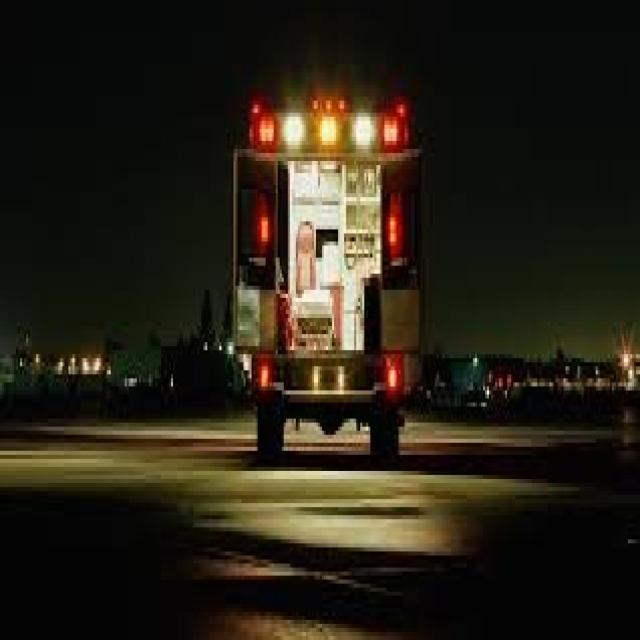ambulance: (223, 79, 434, 469)
